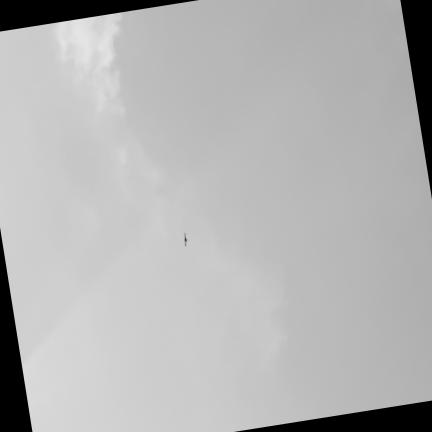Shahed: (184, 233, 186, 246)
